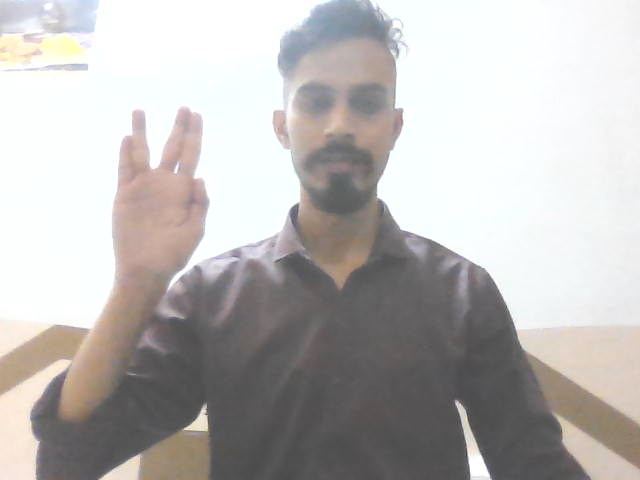LiveLong: (112, 98, 212, 274)
